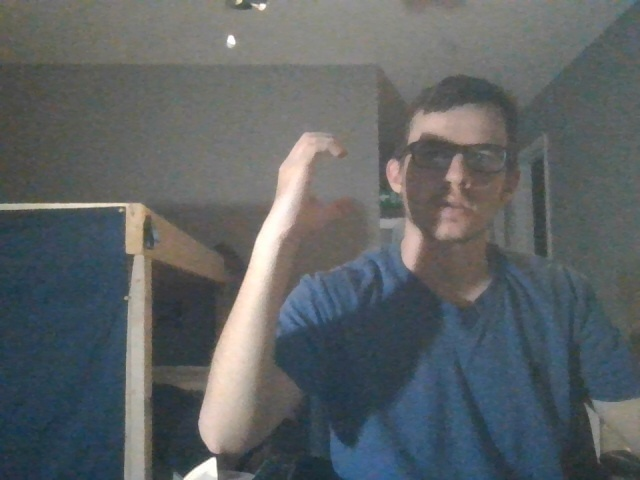C: (258, 120, 370, 244)
